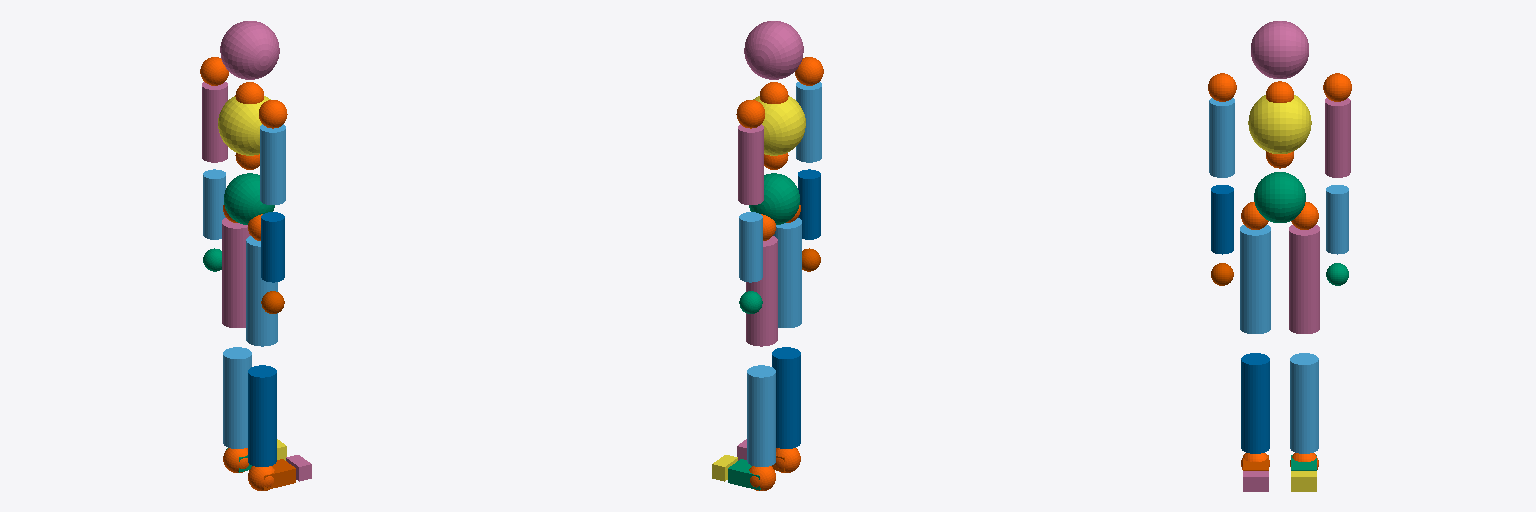
--- Render facts (derived) ---
3 views of the same robot in one strip: view 1: azimuth 30°, elevation 25°; view 2: azimuth 150°, elevation 25°; view 3: azimuth 270°, elevation 25° (orthographic).
Robot: W0005 — 35 links, 34 joints (28 revolute, 6 fixed); root link base_link; default pose: every joint at zero.
Links seen in each view (by area): view 1: right_knee, neck, left_knee, left_hip, right_hip, chest, right_shoulder, left_shoulder, right_elbow, root, left_elbow, chest_right_shoulder_link2 (+2 smaller); view 2: left_knee, neck, right_knee, right_hip, left_hip, left_shoulder, chest, right_shoulder, left_elbow, root, right_elbow, chest_left_shoulder_link2 (+2 smaller); view 3: right_hip, left_hip, chest, right_knee, left_knee, neck, root, right_shoulder, left_shoulder, right_elbow, left_elbow, chest_right_shoulder_link2 (+3 smaller).
Boxes of the visible links, x1,y1,x2,y2 form: right_knee: (248,365,276,466); neck: (220,21,279,79); left_knee: (223,347,251,448); left_hip: (222,218,250,327); right_hip: (246,236,277,346); chest: (218,96,270,155); right_shoulder: (260,124,285,204); left_shoulder: (202,82,227,162); right_elbow: (261,212,284,282); root: (224,173,274,224); left_elbow: (203,169,225,239); chest_right_shoulder_link2: (259,100,287,128); left_knee: (747,365,775,466); neck: (744,21,803,79); right_knee: (772,347,800,448); right_hip: (773,218,801,327); left_hip: (746,236,777,346); left_shoulder: (738,124,763,204); chest: (753,96,805,155); right_shoulder: (796,82,821,162); left_elbow: (739,212,762,282); root: (749,173,799,224); right_elbow: (798,169,820,239); chest_left_shoulder_link2: (736,100,764,128); right_hip: (1240,225,1270,333); left_hip: (1289,225,1319,333); chest: (1248,95,1311,153); right_knee: (1241,353,1269,453); left_knee: (1290,353,1318,453); neck: (1251,21,1308,78); root: (1254,172,1305,222); right_shoulder: (1209,98,1234,177); left_shoulder: (1325,98,1350,177); right_elbow: (1211,185,1233,254); left_elbow: (1326,185,1348,254); chest_right_shoulder_link2: (1208,73,1236,101).
Size in the robot's own frame: 0.28 by 0.5 by 1.74 metres.
Geometry: primitives only (box / cylinder / sphere), no mesh files.

robot.urdf — W0005:
<?xml version="1.0" ?>
            <robot name="W0005">
            <material name="orange">
                <color rgba="1.0 0.4235294117647059 0.0392156862745098 1.0"/>
            </material>
            <link name="base_link">
                </link>
            <link name="base">
                </link>
            <joint name="j_base_base_link_rotation" type="fixed">
                <parent link="base_link"/>
                <child link="base"/>
                <origin rpy="1.5707963267948966 0 0" xyz="0 0 0"/>
            </joint>
            <link name="root">
                <inertial>
                <origin rpy="0 0 0" xyz="0.0 0.07 0.0"/>
                <mass value="6.000000"/>
                <inertia ixx="0.019440000000000002" ixy="0" ixz="0" iyy="0.019440000000000002" iyz="0" izz="0.019440000000000002"/>
                </inertial>
                <collision>
                <origin rpy="0 0 0" xyz="0.000000 0.070000 0.000000"/>
                <geometry>
                    <sphere radius="0.09"/>
                </geometry>
                </collision>
                <visual>
                <origin rpy="0 0 0" xyz="0.000000 0.070000 0.000000"/>
                <geometry>
                    <sphere radius="0.09"/>
                </geometry>
                </visual>
            </link>
            <joint name="j_root" type="fixed">
                <parent link="base"/>
                <child link="root"/>
                <origin rpy="0 0 0" xyz="0 0.000000 0.000000"/>
            </joint>
            <link name="chest">
                <inertial>
                <origin rpy="0 0 0" xyz="0.000000 0.120000 0.000000"/>
                <mass value="14.000000"/>
                <inertia ixx="0.06776000000000001" ixy="0" ixz="0" iyy="0.06776000000000001" iyz="0" izz="0.06776000000000001"/>
                </inertial>
                <collision>
                <origin rpy="0 0 0" xyz="0.000000 0.120000 0.000000"/>
                <geometry>
                    <sphere radius="0.11"/>
                </geometry>
                </collision>
                <visual>
                <origin rpy="0 0 0" xyz="0.000000 0.120000 0.000000"/>
                <geometry>
                    <sphere radius="0.11"/>
                </geometry>
                </visual>
            </link>
            <link name="root_chest_link1">
                <inertial>
                <mass value="1e-02"/>
                <inertia ixx="1e-02" ixy="0" ixz="0" iyy="1e-02" iyz="0" izz="1e-02"/>
                </inertial>
            </link>
            <joint name="j_root_chest_joint1" type="revolute">
                <origin rpy="0 0 0" xyz="0.0 0.236151 0.000000"/>
                <parent link="root"/>
                <child link="root_chest_link1"/>
                <axis xyz="1 0 0"/>
                <limit effort="200" lower="-1.2" upper="1.2" velocity="3"/>
            </joint>
            <link name="root_chest_link2">
                <inertial>
                <mass value="1e-02"/>
                <inertia ixx="1e-02" ixy="0" ixz="0" iyy="1e-02" iyz="0" izz="1e-02"/>
                </inertial>
                <visual>
                <geometry>
                    <sphere radius="0.05"/>
                </geometry>
                <material name="orange"/>
                </visual>
            </link>
            <joint name="j_root_chest_joint2" type="revolute">
                <parent link="root_chest_link1"/>
                <child link="root_chest_link2"/>
                <axis xyz="0 1 0"/>
                <limit effort="200" lower="-1.2" upper="1.2" velocity="3"/>
            </joint>
            <joint name="j_root_chest_joint3" type="revolute">
                <parent link="root_chest_link2"/>
                <child link="chest"/>
                <axis xyz="0 0 1"/>
                <limit effort="200" lower="-1.2" upper="1.2" velocity="3"/>
            </joint>
            <link name="neck">
                <inertial>
                <origin rpy="0 0 0" xyz="0.0 0.175 0.0"/>
                <mass value="2.000000"/>
                <inertia ixx="0.008405" ixy="0" ixz="0" iyy="0.008405" iyz="0" izz="0.008405"/>
                </inertial>
                <collision>
                <origin rpy="0 0 0" xyz="0.0 0.175 0.0"/>
                <geometry>
                    <sphere radius="0.1025"/>
                </geometry>
                </collision>
                <visual>
                <origin rpy="0 0 0" xyz="0.0 0.175 0.0"/>
                <geometry>
                    <sphere radius="0.1025"/>
                </geometry>
                </visual>
            </link>
            <link name="chest_neck_link1">
                <inertial>
                <mass value="1e-02"/>
                <inertia ixx="1e-02" ixy="0" ixz="0" iyy="1e-02" iyz="0" izz="1e-02"/>
                </inertial>
            </link>
            <joint name="j_chest_neck_joint1" type="revolute">
                <origin rpy="0 0 0" xyz="0.000000 0.223894 0.000000"/>
                <parent link="chest"/>
                <child link="chest_neck_link1"/>
                <axis xyz="1 0 0"/>
                <limit effort="50" lower="-1" upper="1" velocity="3"/>
            </joint>
            <link name="chest_neck_link2">
                <inertial>
                <mass value="1e-02"/>
                <inertia ixx="1e-02" ixy="0" ixz="0" iyy="1e-02" iyz="0" izz="1e-02"/>
                </inertial>
                <visual>
                <geometry>
                    <sphere radius="0.05"/>
                </geometry>
                <material name="orange"/>
                </visual>
            </link>
            <joint name="j_chest_neck_joint2" type="revolute">
                <parent link="chest_neck_link1"/>
                <child link="chest_neck_link2"/>
                <axis xyz="0 1 0"/>
                <limit effort="50" lower="-1" upper="1" velocity="3"/>
            </joint>
            <joint name="j_chest_neck_joint3" type="revolute">
                <parent link="chest_neck_link2"/>
                <child link="neck"/>
                <axis xyz="0 0 1"/>
                <limit effort="50" lower="-1" upper="1" velocity="3"/>
            </joint>
            <link name="right_hip">
                <inertial>
                <origin rpy="0 0 0" xyz="0.000000 -0.210000 0.000000"/>
                <mass value="4.500000"/>
                <inertia ixx="0.037153124999999995" ixy="0.0" ixz="0.0" iyy="0.037153124999999995" iyz="0.0" izz="0.00680625"/>
                </inertial>
                <collision>
                <origin rpy="1.5707963267948966 0 0" xyz="0.000000 -0.210000 0.000000"/>
                <geometry>
                    <cylinder length="0.22499999999999998" radius="0.0275"/>
                </geometry>
                </collision>
                <visual>
                <origin rpy="1.5707963267948966 0 0" xyz="0.000000 -0.23904999999999998 0.000000"/>
                <geometry>
                    <cylinder length="0.3781" radius="0.055"/>
                </geometry>
                </visual>
            </link>
            <link name="root_right_hip_link1">
                <inertial>
                <mass value="1e-02"/>
                <inertia ixx="1e-02" ixy="0" ixz="0" iyy="1e-02" iyz="0" izz="1e-02"/>
                </inertial>
            </link>
            <joint name="j_root_right_hip_joint1" type="revolute">
                <origin rpy="0 0 0" xyz="0.000000 0.000000 0.084887"/>
                <parent link="root"/>
                <child link="root_right_hip_link1"/>
                <axis xyz="1 0 0"/>
                <limit effort="200" lower="-1.5" upper="1.5" velocity="3"/>
            </joint>
            <link name="root_right_hip_link2">
                <inertial>
                <mass value="1e-02"/>
                <inertia ixx="1e-02" ixy="0" ixz="0" iyy="1e-02" iyz="0" izz="1e-02"/>
                </inertial>
                <visual>
                <geometry>
                    <sphere radius="0.05"/>
                </geometry>
                <material name="orange"/>
                </visual>
            </link>
            <joint name="j_root_right_hip_joint2" type="revolute">
                <parent link="root_right_hip_link1"/>
                <child link="root_right_hip_link2"/>
                <axis xyz="0 1 0"/>
                <limit effort="200" lower="-1.5" upper="1.5" velocity="3"/>
            </joint>
            <joint name="j_root_right_hip_joint3" type="revolute">
                <parent link="root_right_hip_link2"/>
                <child link="right_hip"/>
                <axis xyz="0 0 1"/>
                <limit effort="200" lower="-1.5" upper="1.5" velocity="3"/>
            </joint>
            <link name="right_knee">
                <inertial>
                <origin rpy="0 0 0" xyz="0.000000 -0.200000 0.000000"/>
                <mass value="3.000000"/>
                <inertia ixx="0.1" ixy="0" ixz="0" iyy="0.1" iyz="0" izz="0.1"/>
                </inertial>
                <collision>
                <origin rpy="1.5707963267948966 0 0" xyz="0.000000 -0.200000 0.000000"/>
                <geometry>
                    <cylinder length="0.23249999999999998" radius="0.025"/>
                </geometry>
                </collision>
                <visual>
                <origin rpy="1.5707963267948966 0 0" xyz="0.000000 -0.2 0.000000"/>
                <geometry>
                    <cylinder length="0.34" radius="0.05"/>
                </geometry>
                </visual>
            </link>
            <joint name="j_right_knee" type="revolute">
                <parent link="right_hip"/>
                <child link="right_knee"/>
                <limit effort="150.0" lower="-3.14" upper="0." velocity="0.5"/>
                <origin rpy="0 0 0" xyz="0.000000 -0.5181 0.000000"/>
                <axis xyz="0.000000 0.000000 1.000000"/>
            </joint>
            <link name="right_ankle">
                <inertial>
                <origin rpy="0 0 0" xyz="0.045 -0.00225 0.000000"/>
                <mass value="1.000000"/>
                <inertia ixx="0.0009270833333333333" ixy="0.0" ixz="0.0" iyy="0.0028628333333333327" iyz="0.0" izz="0.003285749999999999"/>
                </inertial>
                <collision>
                <origin rpy="0 0 0" xyz="0.045 -0.00225 0.000000"/>
                <geometry>
                    <box size="0.127 0.055 0.09"/>
                </geometry>
                </collision>
                <visual>
                <origin rpy="0 0 0" xyz="0.045 -0.00225 0.000000"/>
                <geometry>
                    <box size="0.127 0.055 0.09"/>
                </geometry>
                </visual>
            </link>
            <joint name="j_right_toe" type="fixed">
                <parent link="right_ankle"/>
                <child link="right_toe"/>
                <limit effort="150.0" lower="-3.14" upper="0." velocity="0.5"/>
                <origin rpy="0 0 0" xyz="0.1 0.0 0.0"/>
                <axis xyz="0.000000 0.000000 1.000000"/>
            </joint>
            <link name="right_toe">
                <inertial>
                <origin rpy="0 0 0" xyz="0.045 0.0 0.0"/>
                <mass value="0.3"/>
                <inertia ixx="0.0009270833333333333" ixy="0.0" ixz="0.0" iyy="0.0028628333333333327" iyz="0.0" izz="0.003285749999999999"/>
                </inertial>
                <collision>
                <origin rpy="0 0 0" xyz="0.045 0.0 0.0"/>
                <geometry>
                    <box size="0.05 0.055 0.09"/>
                </geometry>
                </collision>
                <visual>
                <origin rpy="0 0 0" xyz="0.045 0.0 0.0"/>
                <geometry>
                    <box size="0.05 0.055 0.09"/>
                </geometry>
                </visual>
            </link>
            <link name="right_knee_right_ankle_link1">
                <inertial>
                <mass value="1e-02"/>
                <inertia ixx="1e-02" ixy="0" ixz="0" iyy="1e-02" iyz="0" izz="1e-02"/>
                </inertial>
            </link>
            <joint name="j_right_knee_right_ankle_joint1" type="revolute">
                <origin rpy="0 0 0" xyz="0.000000 -0.43000000000000005 0.000000"/>
                <parent link="right_knee"/>
                <child link="right_knee_right_ankle_link1"/>
                <axis xyz="1 0 0"/>
                <limit effort="90" lower="-1.2" upper="1.2" velocity="3"/>
            </joint>
            <link name="right_knee_right_ankle_link2">
                <inertial>
                <mass value="1e-02"/>
                <inertia ixx="1e-02" ixy="0" ixz="0" iyy="1e-02" iyz="0" izz="1e-02"/>
                </inertial>
                <visual>
                <geometry>
                    <sphere radius="0.05"/>
                </geometry>
                <material name="orange"/>
                </visual>
            </link>
            <joint name="j_right_knee_right_ankle_joint2" type="revolute">
                <parent link="right_knee_right_ankle_link1"/>
                <child link="right_knee_right_ankle_link2"/>
                <axis xyz="0 1 0"/>
                <limit effort="90" lower="-1.2" upper="1.2" velocity="3"/>
            </joint>
            <joint name="j_right_knee_right_ankle_joint3" type="revolute">
                <parent link="right_knee_right_ankle_link2"/>
                <child link="right_ankle"/>
                <axis xyz="0 0 1"/>
                <limit effort="90" lower="-1.2" upper="1.2" velocity="3"/>
            </joint>
            <link name="right_shoulder">
                <inertial>
                <origin rpy="0 0 0" xyz="0.000000 -0.140000 0.000000"/>
                <mass value="1.500000"/>
                <inertia ixx="0.004809374999999999" ixy="0.0" ixz="0.0" iyy="0.004809374999999999" iyz="0.0" izz="0.0015187500000000001"/>
                </inertial>
                <collision>
                <origin rpy="1.5707963267948966 0 0" xyz="0.000000 -0.140000 0.000000"/>
                <geometry>
                    <cylinder length="0.135" radius="0.0225"/>
                </geometry>
                </collision>
                <visual>
                <origin rpy="1.5707963267948966 0 0" xyz="0.000000 -0.1875 0.000000"/>
                <geometry>
                    <cylinder length="0.275" radius="0.045"/>
                </geometry>
                </visual>
            </link>
            <link name="chest_right_shoulder_link1">
                <inertial>
                <mass value="1e-02"/>
                <inertia ixx="1e-02" ixy="0" ixz="0" iyy="1e-02" iyz="0" izz="1e-02"/>
                </inertial>
            </link>
            <joint name="j_chest_right_shoulder_joint1" type="revolute">
                <origin rpy="0 0 0" xyz="-0.02406 0.24350 0.2"/>
                <parent link="chest"/>
                <child link="chest_right_shoulder_link1"/>
                <axis xyz="1 0 0"/>
                <limit effort="100" lower="-3.14" upper="3.14" velocity="3"/>
            </joint>
            <link name="chest_right_shoulder_link2">
                <inertial>
                <mass value="1e-02"/>
                <inertia ixx="1e-02" ixy="0" ixz="0" iyy="1e-02" iyz="0" izz="1e-02"/>
                </inertial>
                <visual>
                <geometry>
                    <sphere radius="0.05"/>
                </geometry>
                <material name="orange"/>
                </visual>
            </link>
            <joint name="j_chest_right_shoulder_joint2" type="revolute">
                <parent link="chest_right_shoulder_link1"/>
                <child link="chest_right_shoulder_link2"/>
                <axis xyz="0 1 0"/>
                <limit effort="100" lower="-3.14" upper="3.14" velocity="3"/>
            </joint>
            <joint name="j_chest_right_shoulder_joint3" type="revolute">
                <parent link="chest_right_shoulder_link2"/>
                <child link="right_shoulder"/>
                <axis xyz="0 0 1"/>
                <limit effort="100" lower="-3.14" upper="3.14" velocity="3"/>
            </joint>
            <link name="right_elbow">
                <inertial>
                <origin rpy="0 0 0" xyz="0.000000 -0.120000 0.000000"/>
                <mass value="1.000000"/>
                <inertia ixx="0.0019187499999999999" ixy="0.0" ixz="0.0" iyy="0.0019187499999999999" iyz="0.0" izz="0.0008"/>
                </inertial>
                <collision>
                <origin rpy="1.5707963267948966 0 0" xyz="0.0 -0.12 0.0"/>
                <geometry>
                    <cylinder length="0.10125" radius="0.02"/>
                </geometry>
                </collision>
                <visual>
                <origin rpy="1.5707963267948966 0 0" xyz="0.0 -0.12 0.0"/>
                <geometry>
                    <cylinder length="0.23" radius="0.04"/>
                </geometry>
                </visual>
            </link>
            <joint name="j_right_elbow" type="revolute">
                <parent link="right_shoulder"/>
                <child link="right_elbow"/>
                <limit effort="60.0" lower="0" upper="3.14" velocity="0.5"/>
                <origin rpy="0 0 0" xyz="0.000000 -0.385 0.000000"/>
                <axis xyz="0.000000 0.000000 1.000000"/>
            </joint>
            <link name="right_wrist">
                <inertial>
                <origin rpy="0 0 0" xyz="0.000000 0.000000 0.000000"/>
                <mass value="0.500000"/>
                <inertia ixx="0.00032" ixy="0" ixz="0" iyy="0.00032" iyz="0" izz="0.00032"/>
                </inertial>
                <collision>
                <origin rpy="0 0 0" xyz="0.000000 0.000000 0.000000"/>
                <geometry>
                    <sphere radius="0.04"/>
                </geometry>
                </collision>
                <visual>
                <origin rpy="0 0 0" xyz="0.000000 0.000000 0.000000"/>
                <geometry>
                    <sphere radius="0.04"/>
                </geometry>
                </visual>
            </link>
            <joint name="j_right_wrist" type="fixed">
                <parent link="right_elbow"/>
                <child link="right_wrist"/>
                <origin rpy="0 0 0" xyz="0.000000 -0.33 0.000000"/>
            </joint>
            <link name="left_hip">
                <inertial>
                <origin rpy="0 0 0" xyz="0.000000 -0.210000 0.000000"/>
                <mass value="4.500000"/>
                <inertia ixx="0.037153124999999995" ixy="0.0" ixz="0.0" iyy="0.037153124999999995" iyz="0.0" izz="0.00680625"/>
                </inertial>
                <collision>
                <origin rpy="1.5707963267948966 0 0" xyz="0.000000 -0.210000 0.000000"/>
                <geometry>
                    <cylinder length="0.22499999999999998" radius="0.0275"/>
                </geometry>
                </collision>
                <visual>
                <origin rpy="1.5707963267948966 0 0" xyz="0.000000 -0.23904999999999998 0.000000"/>
                <geometry>
                    <cylinder length="0.3781" radius="0.055"/>
                </geometry>
                </visual>
            </link>
            <link name="root_left_hip_link1">
                <inertial>
                <mass value="1e-02"/>
                <inertia ixx="1e-02" ixy="0" ixz="0" iyy="1e-02" iyz="0" izz="1e-02"/>
                </inertial>
            </link>
            <joint name="j_root_left_hip_joint1" type="revolute">
                <origin rpy="0 0 0" xyz="0.000000 0.000000 -0.084887"/>
                <parent link="root"/>
                <child link="root_left_hip_link1"/>
                <axis xyz="1 0 0"/>
                <limit effort="200" lower="-1.5" upper="1.5" velocity="3"/>
            </joint>
            <link name="root_left_hip_link2">
                <inertial>
                <mass value="1e-02"/>
                <inertia ixx="1e-02" ixy="0" ixz="0" iyy="1e-02" iyz="0" izz="1e-02"/>
                </inertial>
                <visual>
                <geometry>
                    <sphere radius="0.05"/>
                </geometry>
                <material name="orange"/>
                </visual>
            </link>
            <joint name="j_root_left_hip_joint2" type="revolute">
                <parent link="root_left_hip_link1"/>
                <child link="root_left_hip_link2"/>
                <axis xyz="0 1 0"/>
                <limit effort="200" lower="-1.5" upper="1.5" velocity="3"/>
            </joint>
            <joint name="j_root_left_hip_joint3" type="revolute">
                <parent link="root_left_hip_link2"/>
                <child link="left_hip"/>
                <axis xyz="0 0 1"/>
                <limit effort="200" lower="-1.5" upper="1.5" velocity="3"/>
            </joint>
            <link name="left_knee">
                <inertial>
                <origin rpy="0 0 0" xyz="0.000000 -0.200000 0.000000"/>
                <mass value="3.000000"/>
                <inertia ixx="0.025900000000000003" ixy="0.0" ixz="0.0" iyy="0.025900000000000003" iyz="0.0" izz="0.0037500000000000007"/>
                </inertial>
                <collision>
                <origin rpy="1.5707963267948966 0 0" xyz="0.000000 -0.200000 0.000000"/>
                <geometry>
                    <cylinder length="0.23249999999999998" radius="0.025"/>
                </geometry>
                </collision>
                <visual>
                <origin rpy="1.5707963267948966 0 0" xyz="0.000000 -0.2 0.000000"/>
                <geometry>
                    <cylinder length="0.34" radius="0.05"/>
                </geometry>
                </visual>
            </link>
            <joint name="j_left_knee" type="revolute">
                <parent link="left_hip"/>
                <child link="left_knee"/>
                <limit effort="150.0" lower="-3.14" upper="0." velocity="0.5"/>
                <origin rpy="0 0 0" xyz="0.000000 -0.5181 0.000000"/>
                <axis xyz="0.000000 0.000000 1.000000"/>
            </joint>
            <link name="left_ankle">
                <inertial>
                <origin rpy="0 0 0" xyz="0.045 -0.00225 0.0"/>
                <mass value="0.7"/>
                <inertia ixx="0.0009270833333333333" ixy="0.0" ixz="0.0" iyy="0.0028628333333333327" iyz="0.0" izz="0.003285749999999999"/>
                </inertial>
                <collision>
                <origin rpy="0 0 0" xyz="0.045 -0.00225 0.0"/>
                <geometry>
                    <box size="0.127 0.055 0.09"/>
                </geometry>
                </collision>
                <visual>
                <origin rpy="0 0 0" xyz="0.045 -0.00225 0.0"/>
                <geometry>
                    <box size="0.127 0.055 0.09"/>
                </geometry>
                </visual>
            </link>
            <joint name="j_left_toe" type="fixed">
                <parent link="left_ankle"/>
                <child link="left_toe"/>
                <limit effort="150.0" lower="-3.14" upper="0." velocity="0.5"/>
                <origin rpy="0 0 0" xyz="0.1 0.0 0.0"/>
                <axis xyz="0.000000 0.000000 1.000000"/>
            </joint>
            <link name="left_toe">
                <inertial>
                <origin rpy="0 0 0" xyz="0.045 0.0 0.0"/>
                <mass value="0.3"/>
                <inertia ixx="0.0009270833333333333" ixy="0.0" ixz="0.0" iyy="0.0028628333333333327" iyz="0.0" izz="0.003285749999999999"/>
                </inertial>
                <collision>
                <origin rpy="0 0 0" xyz="0.045 0.0 0.0"/>
                <geometry>
                    <box size="0.05 0.055 0.09"/>
                </geometry>
                </collision>
                <visual>
                <origin rpy="0 0 0" xyz="0.045 0.0 0.0"/>
                <geometry>
                    <box size="0.05 0.055 0.09"/>
                </geometry>
                </visual>
            </link>
            <link name="left_knee_left_ankle_link1">
                <inertial>
                <mass value="1e-02"/>
                <inertia ixx="1e-02" ixy="0" ixz="0" iyy="1e-02" iyz="0" izz="1e-02"/>
                </inertial>
            </link>
            <joint name="j_left_knee_left_ankle_joint1" type="revolute">
                <origin rpy="0 0 0" xyz="0.000000 -0.43000000000000005 0.000000"/>
                <parent link="left_knee"/>
                <child link="left_knee_left_ankle_link1"/>
                <axis xyz="1 0 0"/>
                <limit effort="90" lower="-1.2" upper="1.2" velocity="3"/>
            </joint>
            <link name="left_knee_left_ankle_link2">
                <inertial>
                <mass value="1e-02"/>
                <inertia ixx="1e-02" ixy="0" ixz="0" iyy="1e-02" iyz="0" izz="1e-02"/>
                </inertial>
                <visual>
                <geometry>
                    <sphere radius="0.05"/>
                </geometry>
                <material name="orange"/>
                </visual>
            </link>
            <joint name="j_left_knee_left_ankle_joint2" type="revolute">
                <parent link="left_knee_left_ankle_link1"/>
                <child link="left_knee_left_ankle_link2"/>
                <axis xyz="0 1 0"/>
                <limit effort="90" lower="-1.2" upper="1.2" velocity="3"/>
            </joint>
            <joint name="j_left_knee_left_ankle_joint3" type="revolute">
                <parent link="left_knee_left_ankle_link2"/>
                <child link="left_ankle"/>
                <axis xyz="0 0 1"/>
                <limit effort="90" lower="-1.2" upper="1.2" velocity="3"/>
            </joint>
            <link name="left_shoulder">
                <inertial>
                <origin rpy="0 0 0" xyz="0.000000 -0.140000 0.000000"/>
                <mass value="1.500000"/>
                <inertia ixx="0.004809374999999999" ixy="0.0" ixz="0.0" iyy="0.004809374999999999" iyz="0.0" izz="0.0015187500000000001"/>
                </inertial>
                <collision>
                <origin rpy="1.5707963267948966 0 0" xyz="0.000000 -0.140000 0.000000"/>
                <geometry>
                    <cylinder length="0.135" radius="0.0225"/>
                </geometry>
                </collision>
                <visual>
                <origin rpy="1.5707963267948966 0 0" xyz="0.000000 -0.1875 0.000000"/>
                <geometry>
                    <cylinder length="0.275" radius="0.045"/>
                </geometry>
                </visual>
            </link>
            <link name="chest_left_shoulder_link1">
                <inertial>
                <mass value="1e-02"/>
                <inertia ixx="1e-02" ixy="0" ixz="0" iyy="1e-02" iyz="0" izz="1e-02"/>
                </inertial>
            </link>
            <joint name="j_chest_left_shoulder_joint1" type="revolute">
                <origin rpy="0 0 0" xyz="-0.02405 0.24350 -0.2"/>
                <parent link="chest"/>
                <child link="chest_left_shoulder_link1"/>
                <axis xyz="1 0 0"/>
                <limit effort="100" lower="-3.14" upper="3.14" velocity="3"/>
            </joint>
            <link name="chest_left_shoulder_link2">
                <inertial>
                <mass value="1e-02"/>
                <inertia ixx="1e-02" ixy="0" ixz="0" iyy="1e-02" iyz="0" izz="1e-02"/>
                </inertial>
                <visual>
                <geometry>
                    <sphere radius="0.05"/>
                </geometry>
                <material name="orange"/>
                </visual>
            </link>
            <joint name="j_chest_left_shoulder_joint2" type="revolute">
                <parent link="chest_left_shoulder_link1"/>
                <child link="chest_left_shoulder_link2"/>
                <axis xyz="0 1 0"/>
                <limit effort="100" lower="-3.14" upper="3.14" velocity="3"/>
            </joint>
            <joint name="j_chest_left_shoulder_joint3" type="revolute">
                <parent link="chest_left_shoulder_link2"/>
                <child link="left_shoulder"/>
                <axis xyz="0 0 1"/>
                <limit effort="100" lower="-3.14" upper="3.14" velocity="3"/>
            </joint>
            <link name="left_elbow">
                <inertial>
                <origin rpy="0 0 0" xyz="0.000000 -0.12 0.000000"/>
                <mass value="1.000000"/>
                <inertia ixx="0.0019187499999999999" ixy="0.0" ixz="0.0" iyy="0.0019187499999999999" iyz="0.0" izz="0.0008"/>
                </inertial>
                <collision>
                <origin rpy="1.5707963267948966 0 0" xyz="0.000000 -0.12 0.000000"/>
                <geometry>
                    <cylinder length="0.10125" radius="0.02"/>
                </geometry>
                </collision>
                <visual>
                <origin rpy="1.5707963267948966 0 0" xyz="0.000000 -0.12 0.000000"/>
                <geometry>
                    <cylinder length="0.23" radius="0.04"/>
                </geometry>
                </visual>
            </link>
            <joint name="j_left_elbow" type="revolute">
                <parent link="left_shoulder"/>
                <child link="left_elbow"/>
                <limit effort="60.0" lower="0" upper="3.14" velocity="0.5"/>
                <origin rpy="0 0 0" xyz="0.000000 -0.385 0.000000"/>
                <axis xyz="0.000000 0.000000 1.000000"/>
            </joint>
            <link name="left_wrist">
                <inertial>
                <origin rpy="0 0 0" xyz="0.000000 0.000000 0.000000"/>
                <mass value="0.500000"/>
                <inertia ixx="0.00032" ixy="0" ixz="0" iyy="0.00032" iyz="0" izz="0.00032"/>
                </inertial>
                <collision>
                <origin rpy="0 0 0" xyz="0.000000 0.000000 0.000000"/>
                <geometry>
                    <sphere radius="0.04"/>
                </geometry>
                </collision>
                <visual>
                <origin rpy="0 0 0" xyz="0.000000 0.000000 0.000000"/>
                <geometry>
                    <sphere radius="0.04"/>
                </geometry>
                </visual>
            </link>
            <joint name="j_left_wrist_joint" type="fixed">
                <parent link="left_elbow"/>
                <child link="left_wrist"/>
                <origin rpy="0 0 0" xyz="0.000000 -0.33 0.000000"/>
            </joint>
            </robot>
            
